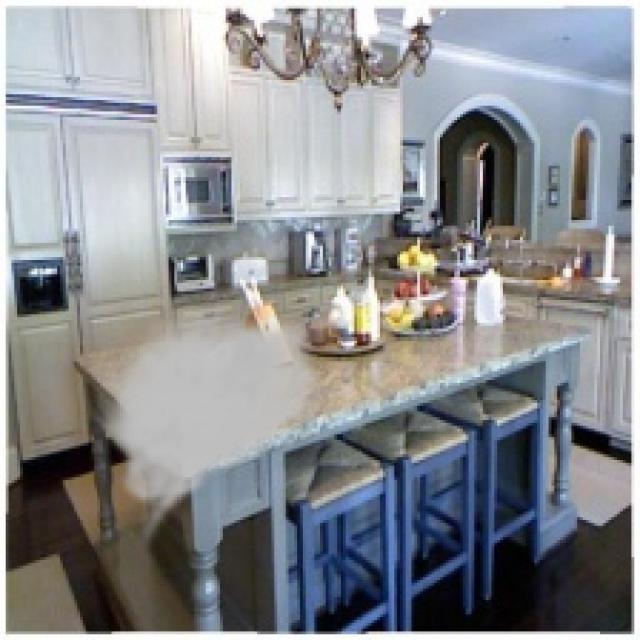smoke: (92, 303, 334, 551)
